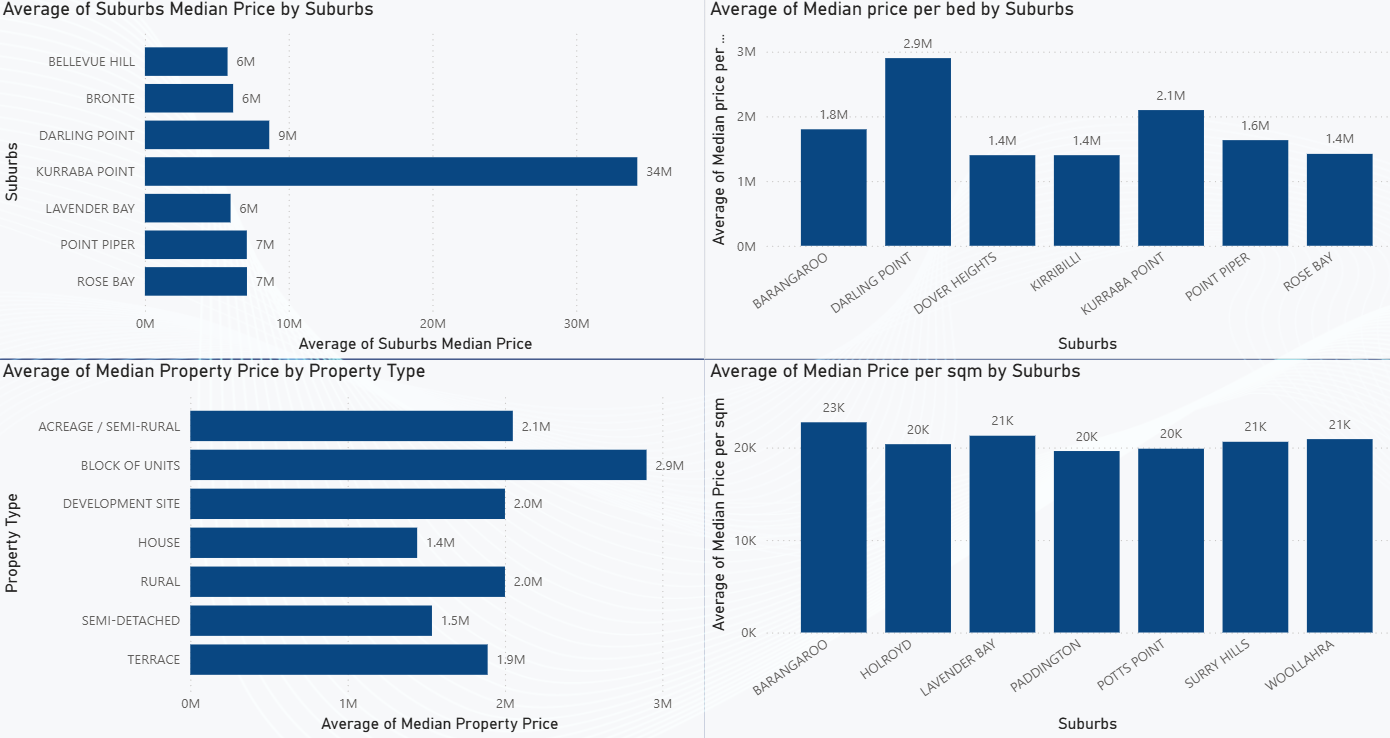

This screenshot's page, from the dashboard's own definition file:
{"tool":"powerbi","page":{"name":"Page 1","canvas":[1280,720],"ordinal":0},"visuals":[{"type":"barChart","fields":{"Category":["kpi_suburb_prices.Suburbs"],"Y":["Avg(kpi_suburb_prices.Suburbs Median Price)"]},"box":[0,51.4,639.5,326.5],"z":0},{"type":"barChart","fields":{"Category":["kpi_property_type_prices.Property Type"],"Y":["Avg(kpi_property_type_prices.Median Property Price)"]},"box":[0,377.9,639.5,342.4],"z":1000},{"type":"columnChart","fields":{"Category":["kpi_price_per_bed.Suburbs"],"Y":["Avg(kpi_price_per_bed.Median price per bed)"]},"box":[639.5,51.4,640.8,326.5],"z":2000},{"type":"columnChart","fields":{"Category":["kpi_price_per_sqm.Suburbs"],"Y":["Avg(kpi_price_per_sqm.Median Price per sqm)"]},"box":[639.5,377.9,640.8,342.4],"z":3000},{"type":"textbox","box":[449.7,0,331.4,39.4],"z":4000}]}

Visuals, with their boxes on the page's 1280x720 design canvas (x1, y1, x2, y2). These are canvas units, not pixel positions in the 1390x738 screenshot, which may show the page scaled, cropped or inside an application window:
barChart - kpi_suburb_prices.Suburbs x Avg(kpi_suburb_prices.Suburbs Median Price): rect(0, 51, 640, 378)
barChart - kpi_property_type_prices.Property Type x Avg(kpi_property_type_prices.Median Property Price): rect(0, 378, 640, 720)
columnChart - kpi_price_per_bed.Suburbs x Avg(kpi_price_per_bed.Median price per bed): rect(640, 51, 1280, 378)
columnChart - kpi_price_per_sqm.Suburbs x Avg(kpi_price_per_sqm.Median Price per sqm): rect(640, 378, 1280, 720)
textbox: rect(450, 0, 781, 39)
